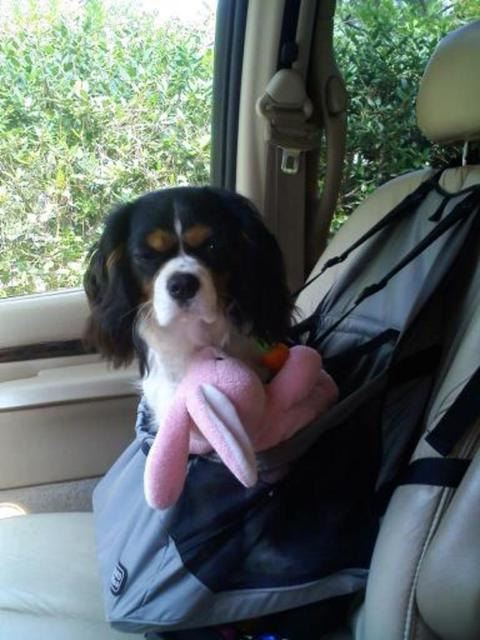Seatbelt: (264, 106, 319, 292)
